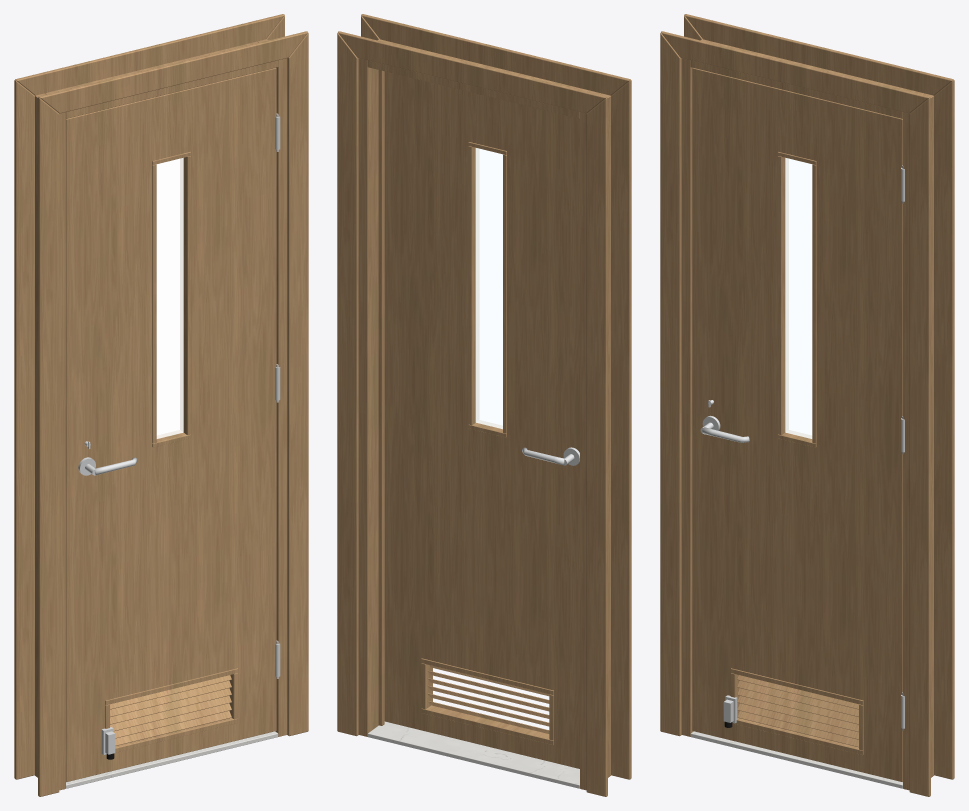
Rendered from door_bath_r.glb.
The picture shows the model from 3 angles, left to right: view 1: azimuth 30°, elevation 25°; view 2: azimuth 150°, elevation 25°; view 3: azimuth 330°, elevation 25°; orthographic projection.
Parts seen in each view (by area): view 1: door_bath_r_leaf_body, door_bath_r_casing, door_bath_r_frame, door_bath_r_louver, door_bath_r_glass_slit, door_bath_r_handle, door_bath_r_hinges; view 2: door_bath_r_leaf_body, door_bath_r_casing, door_bath_r_frame, door_bath_r_louver, door_bath_r_glass_slit, door_bath_r_handle; view 3: door_bath_r_leaf_body, door_bath_r_casing, door_bath_r_frame, door_bath_r_louver, door_bath_r_glass_slit, door_bath_r_handle.
Part boxes in pixels (x1=…): door_bath_r_leaf_body: x1=66, y1=68, x2=276, y2=781; door_bath_r_casing: x1=14, y1=14, x2=308, y2=796; door_bath_r_frame: x1=35, y1=39, x2=287, y2=790; door_bath_r_louver: x1=105, y1=152, x2=238, y2=754; door_bath_r_glass_slit: x1=156, y1=158, x2=183, y2=438; door_bath_r_handle: x1=78, y1=441, x2=137, y2=759; door_bath_r_hinges: x1=275, y1=113, x2=280, y2=678; door_bath_r_leaf_body: x1=384, y1=71, x2=579, y2=768; door_bath_r_casing: x1=337, y1=14, x2=631, y2=796; door_bath_r_frame: x1=358, y1=39, x2=610, y2=790; door_bath_r_louver: x1=421, y1=142, x2=553, y2=744; door_bath_r_glass_slit: x1=475, y1=148, x2=502, y2=429; door_bath_r_handle: x1=522, y1=447, x2=579, y2=465; door_bath_r_leaf_body: x1=692, y1=68, x2=902, y2=781; door_bath_r_casing: x1=660, y1=14, x2=954, y2=796; door_bath_r_frame: x1=681, y1=39, x2=933, y2=790; door_bath_r_louver: x1=730, y1=152, x2=863, y2=754; door_bath_r_glass_slit: x1=785, y1=158, x2=812, y2=438; door_bath_r_handle: x1=700, y1=400, x2=749, y2=727.
Size of the model in its own units: 0.87 by 2.16 by 0.1848.
Materials: 5 (2 with a texture image).
